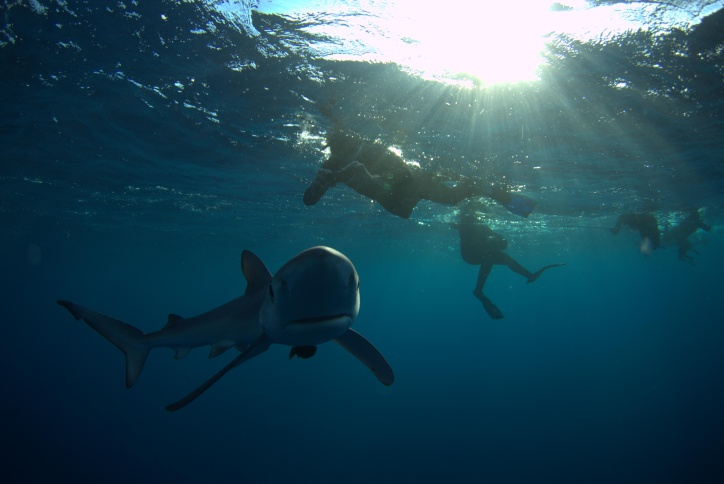Azul: (244, 76, 611, 237)
